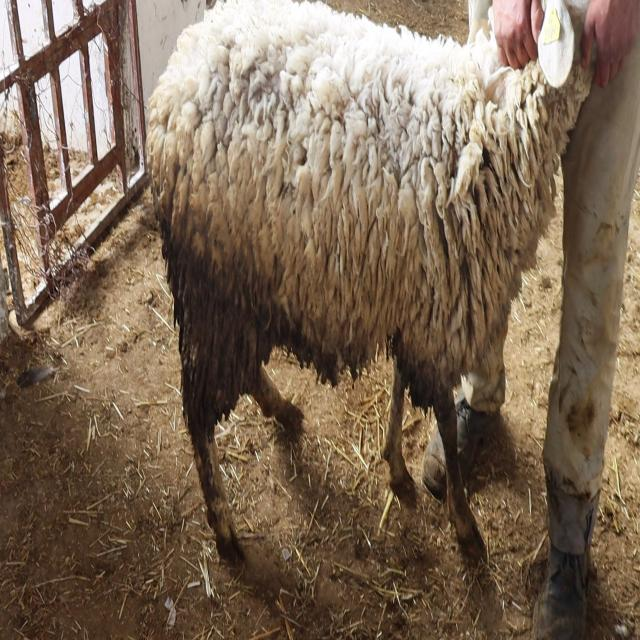Score_4: (146, 0, 595, 559)
